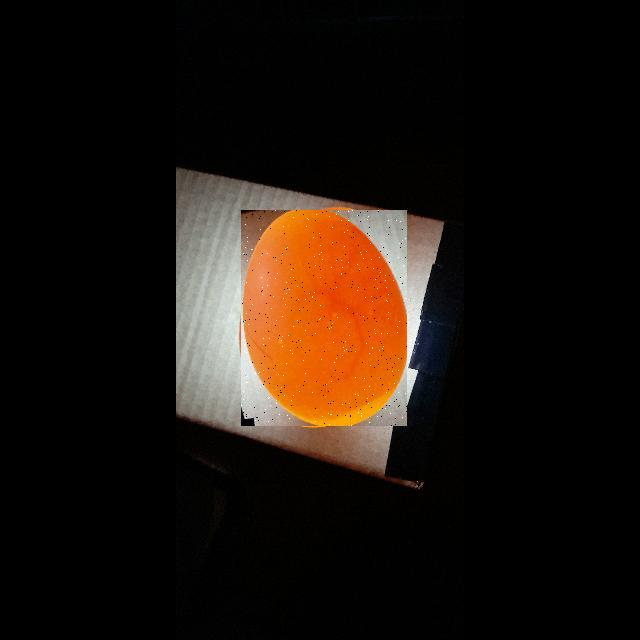Fertile: (241, 210, 407, 426)
